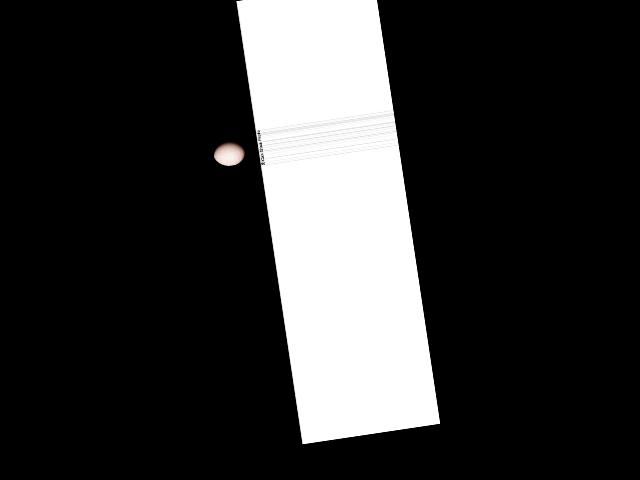egg: (212, 139, 247, 167)
